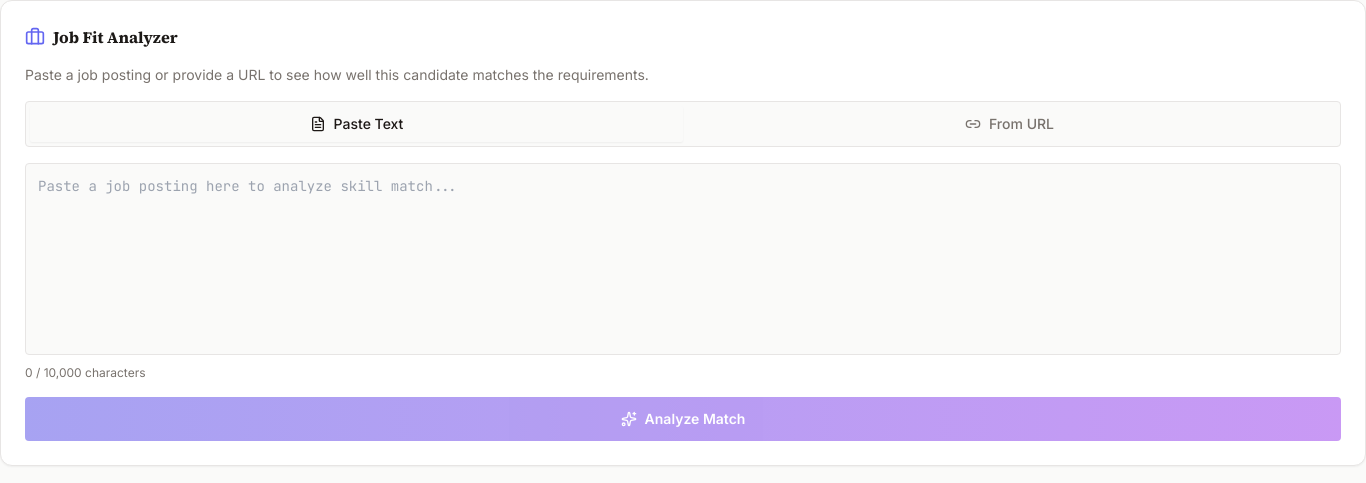
Scenario: JobPostingMatcher › shows loading state while analyzing
This screenshot has width=1366, height=483.
Type "DevOps Engineer" into the text box with placeholder "Paste a job posting here to analyze skill match..." at (683, 259), box [25,163,1341,355]
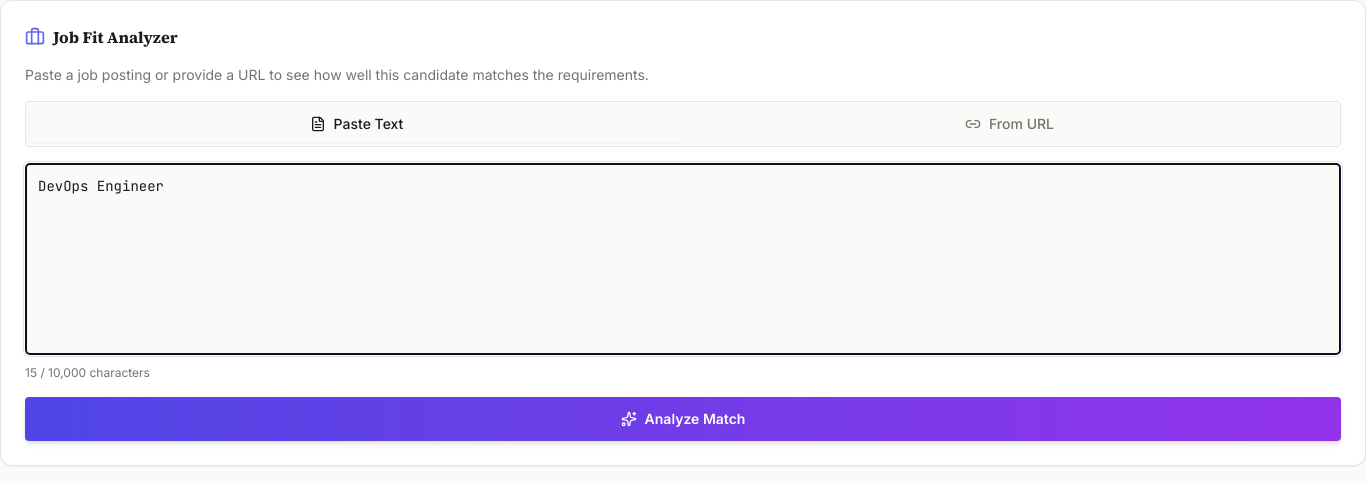
Click the button "Analyze Match" at (683, 419), box [25,397,1341,441]
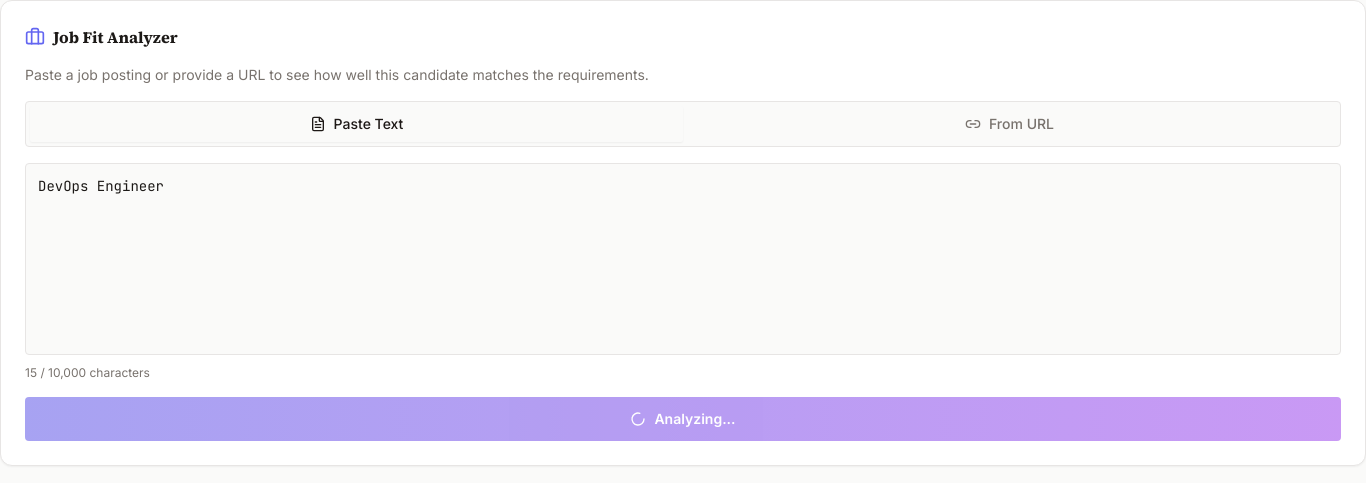
Result: the button "Analyzing..." is shown at [25,397,1341,441]
